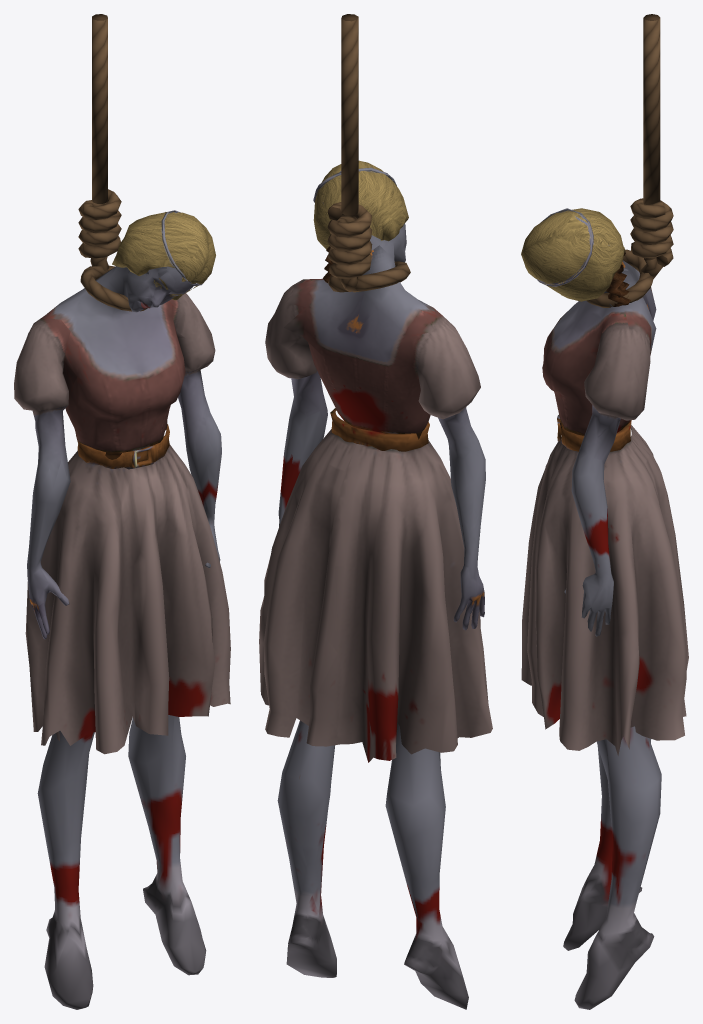
Rendered from mm6_deco_corpse07.glb.
3 views of the same model, side by side, from view 1: azimuth 30°, elevation 25°; view 2: azimuth 150°, elevation 25°; view 3: azimuth 270°, elevation 25° (orthographic). The views are drawn at different scales.
Visible parts, largest first — view 1: Corpse07; view 2: Corpse07; view 3: Corpse07.
Part boxes in pixels (box(x1,y1,x2,y2)): Corpse07: box(14, 14, 230, 1009); Corpse07: box(259, 14, 492, 1009); Corpse07: box(521, 14, 688, 1009).
Size of the model in its own units: 0.4358 by 2 by 0.3165.
Materials: 2 (2 with a texture image).
